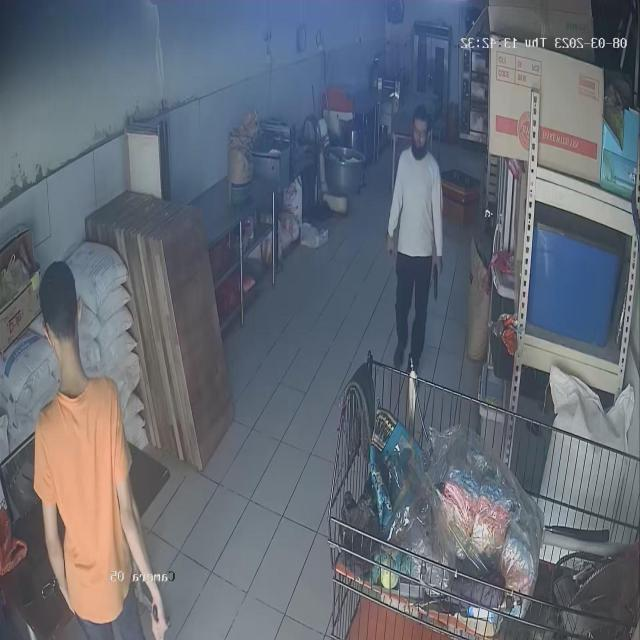Gun: (427, 263, 449, 305)
Knife: (132, 577, 186, 628)
